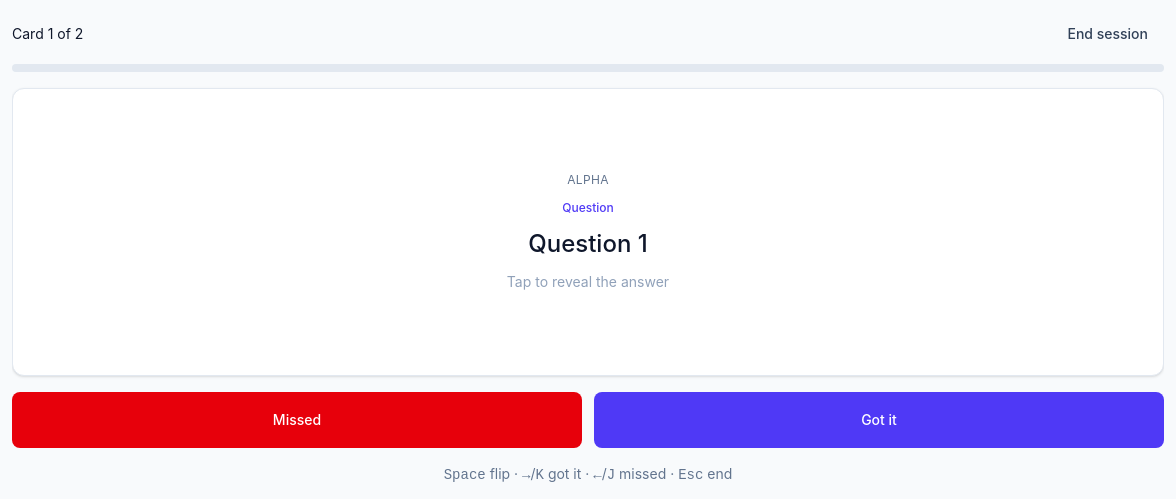
Test case: study session › ending before answering anything says so and offers no review
The width and height of the screenshot is (1176, 499).
Step 1. Click the button "End session" → (1108, 34), box x1=1052 y1=12 x2=1164 y2=56
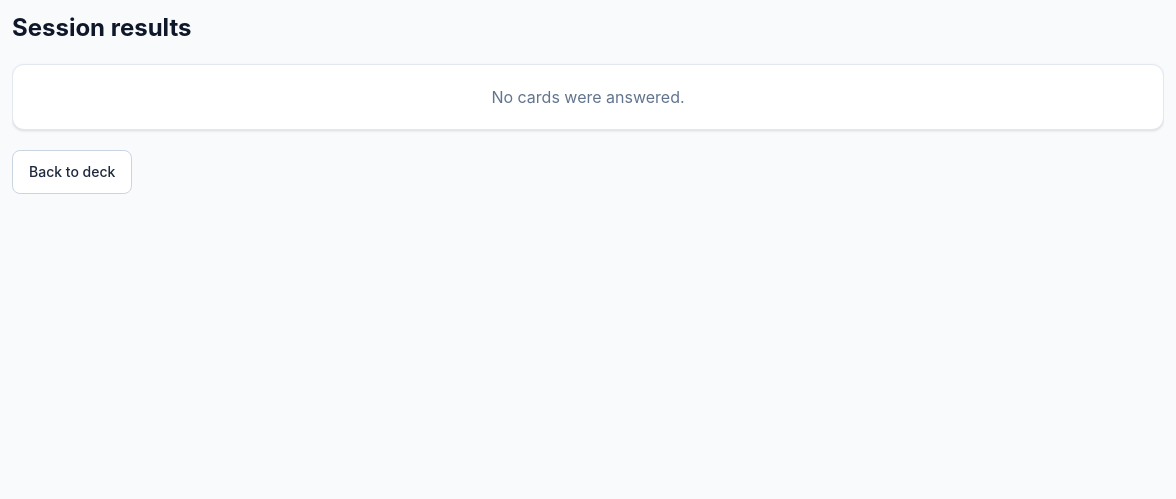
Expected: the text "No cards were answered." is shown, x1=491 y1=87 x2=685 y2=107
